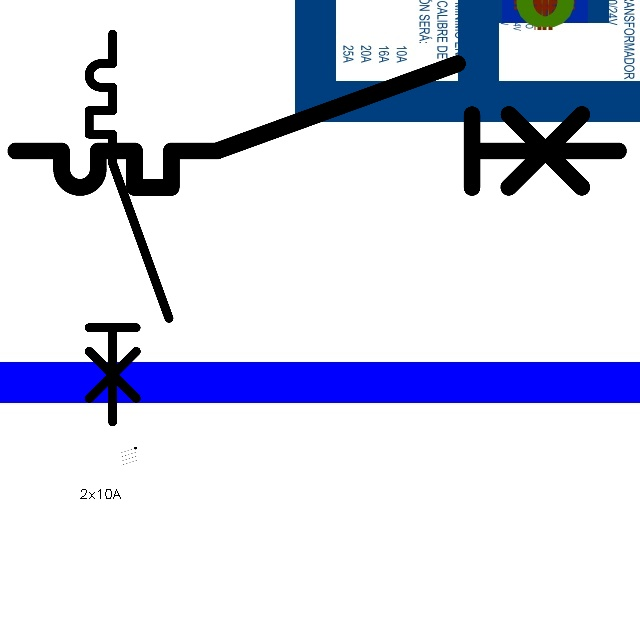interruptor_termomagnetico: (0, 48, 634, 203), (79, 24, 178, 431)
